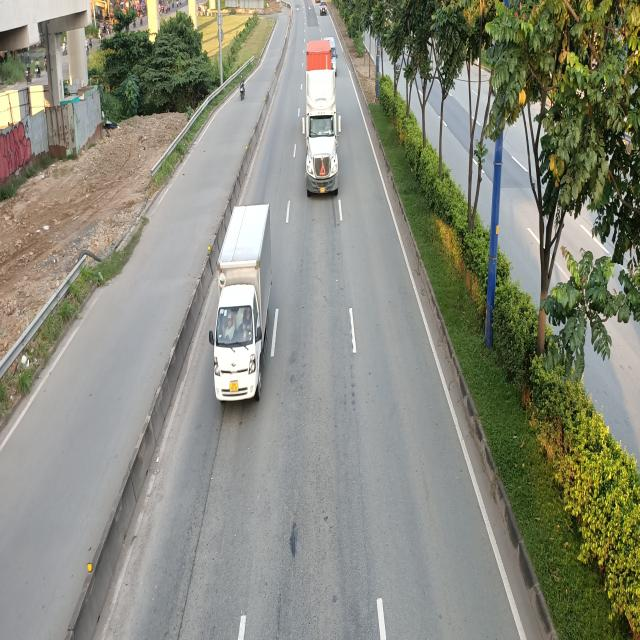container: (304, 41, 344, 198)
truck: (207, 202, 271, 406)
